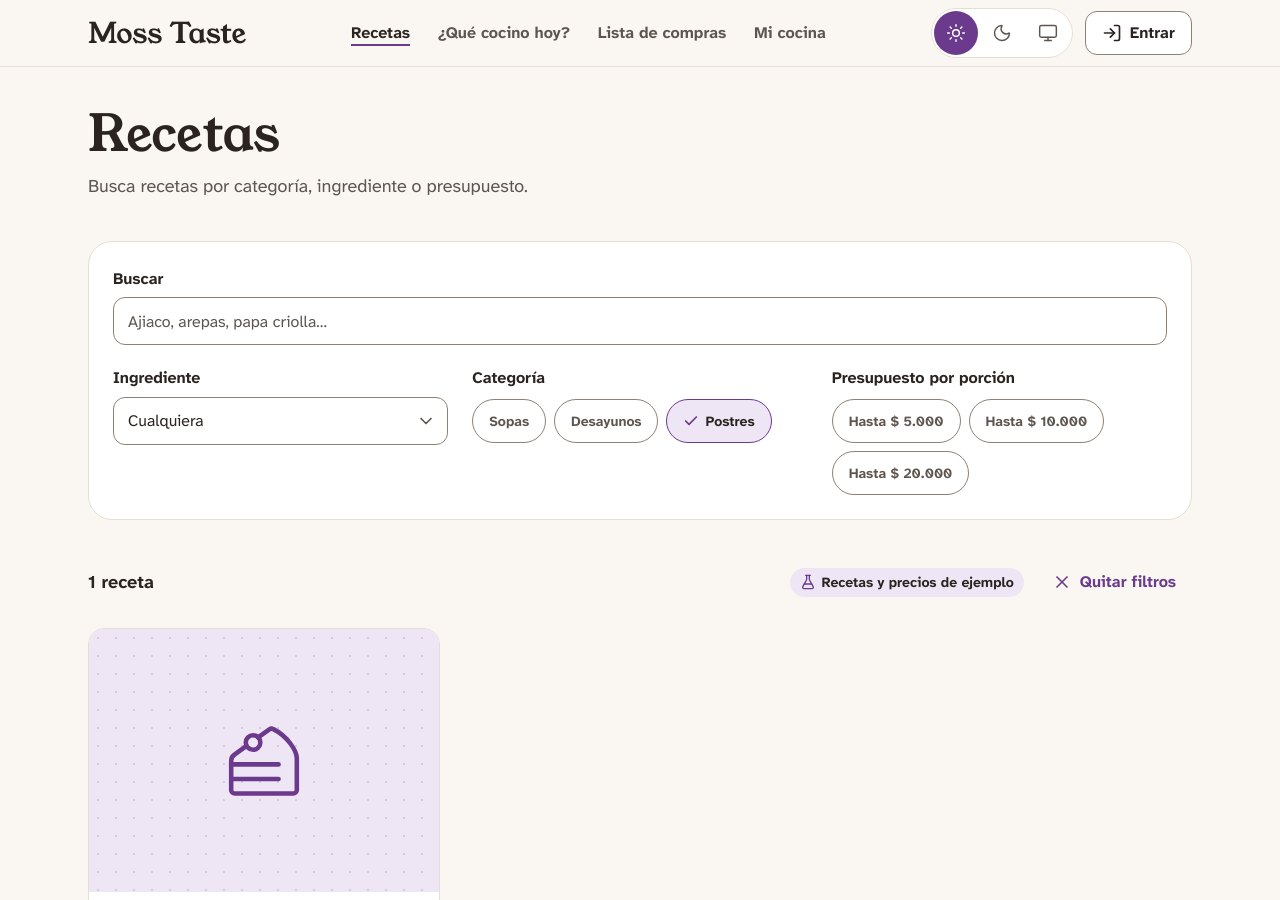
Scenario: galería › lee los filtros de la URL y los actualiza
The width and height of the screenshot is (1280, 900).
Expected: the heading "Recetas" is shown, [88,98,280,169]
Expected: the heading "1 receta" is shown, [88,568,154,596]
Click the button "Desayunos": (606, 421) [554,399,658,443]
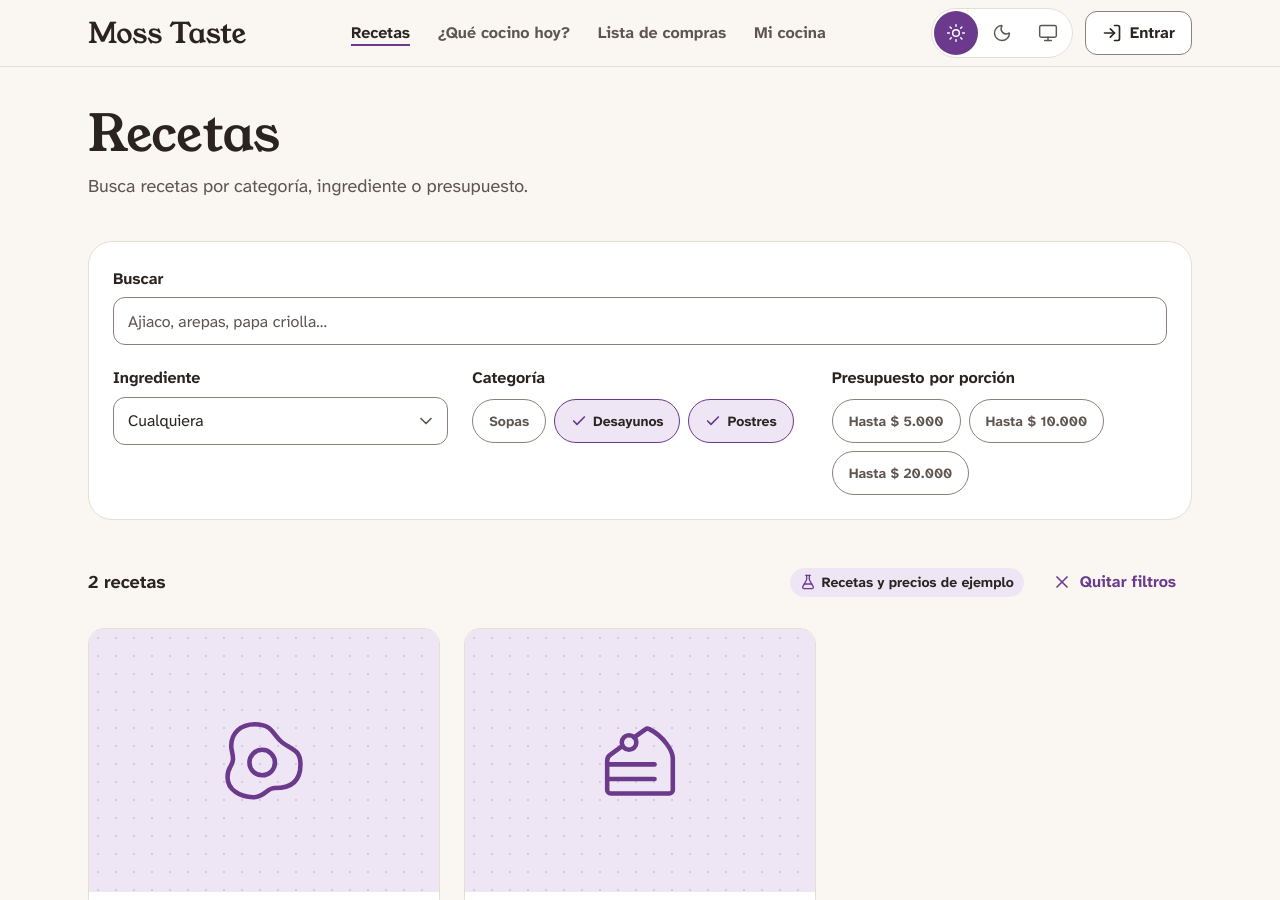
Expected: the heading "2 recetas" is shown, [88,568,165,596]
